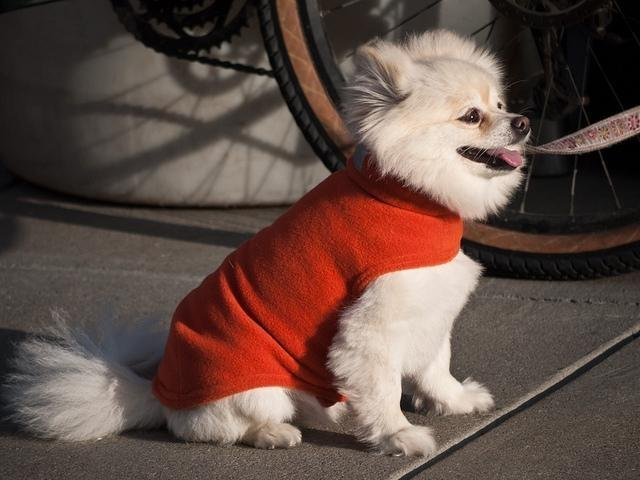bicycle: (109, 3, 640, 278)
